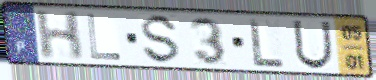3: (189, 16, 229, 66)
H: (34, 10, 86, 61)
L: (247, 17, 287, 69), (84, 13, 124, 62)
S: (140, 13, 182, 67)
U: (290, 18, 334, 71)
